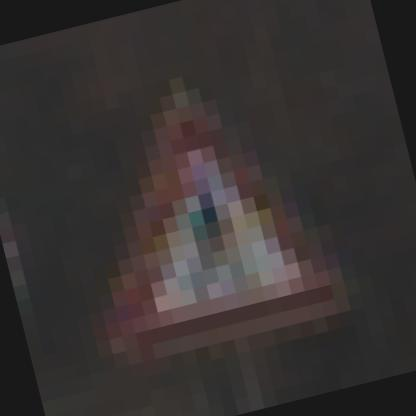crosswalk: (23, 35, 380, 406)
